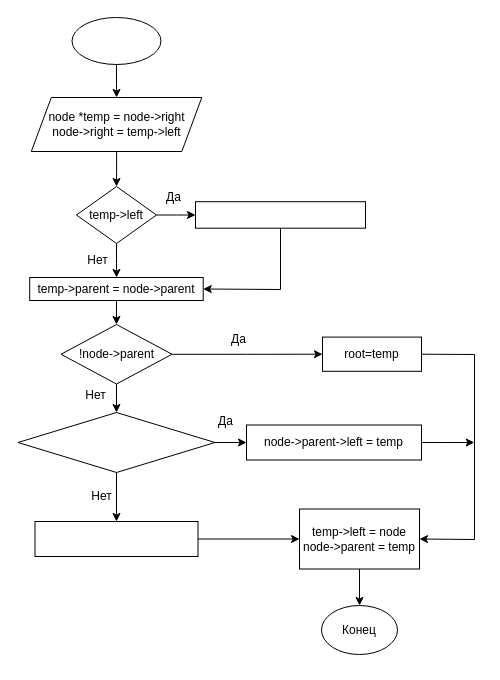
Image size: 500x680. Some labels were removed from this diagram. The shapes that lost their labels are listed below. From the top down, each one's centre as x and y in pixels, then its label:
At [116,40]: "Начало".
At [280,214]: "temp->right->parent = node".
At [116,442]: "node == node->parent->left".
At [116,538]: "node->parent->right = temp".
